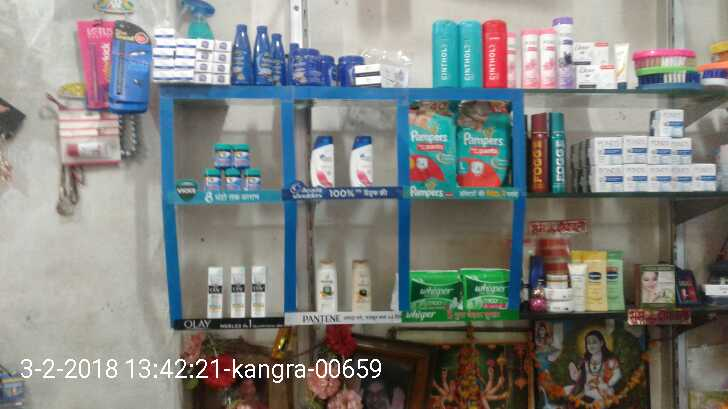vicks: (201, 134, 263, 201)
